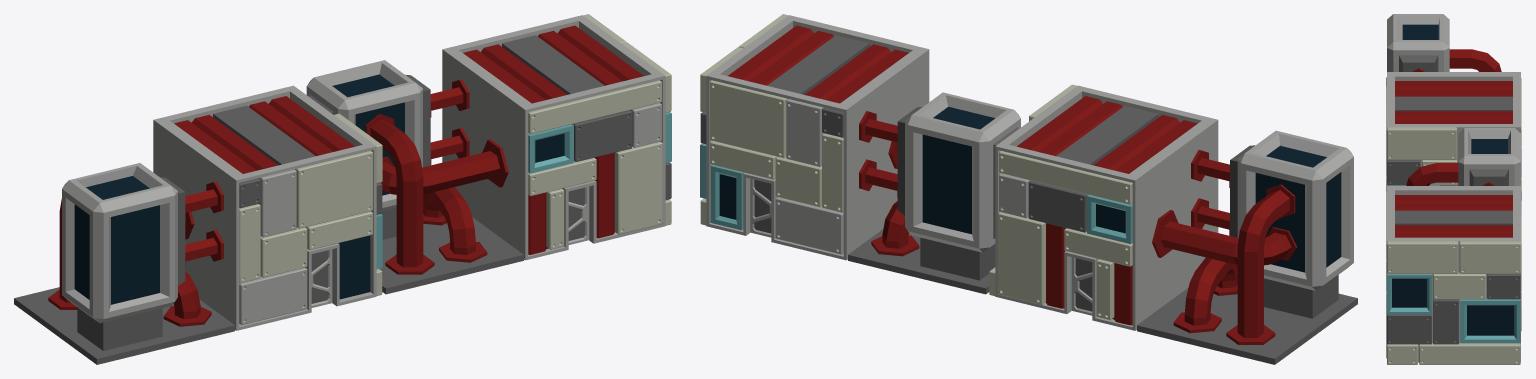
The picture shows the model from 3 angles, left to right: view 1: azimuth 30°, elevation 25°; view 2: azimuth 150°, elevation 25°; view 3: azimuth 270°, elevation 25°; orthographic projection. The views are drawn at different scales.
Parts seen in each view (by area): view 1: House_20x5x5; view 2: House_20x5x5; view 3: House_20x5x5.
Boxes of the visible parts, <box> form: House_20x5x5: <box>14,14,671,364</box>; House_20x5x5: <box>700,14,1357,364</box>; House_20x5x5: <box>1386,14,1521,364</box>.
Size of the model in its own units: 2000 by 523 by 505.
